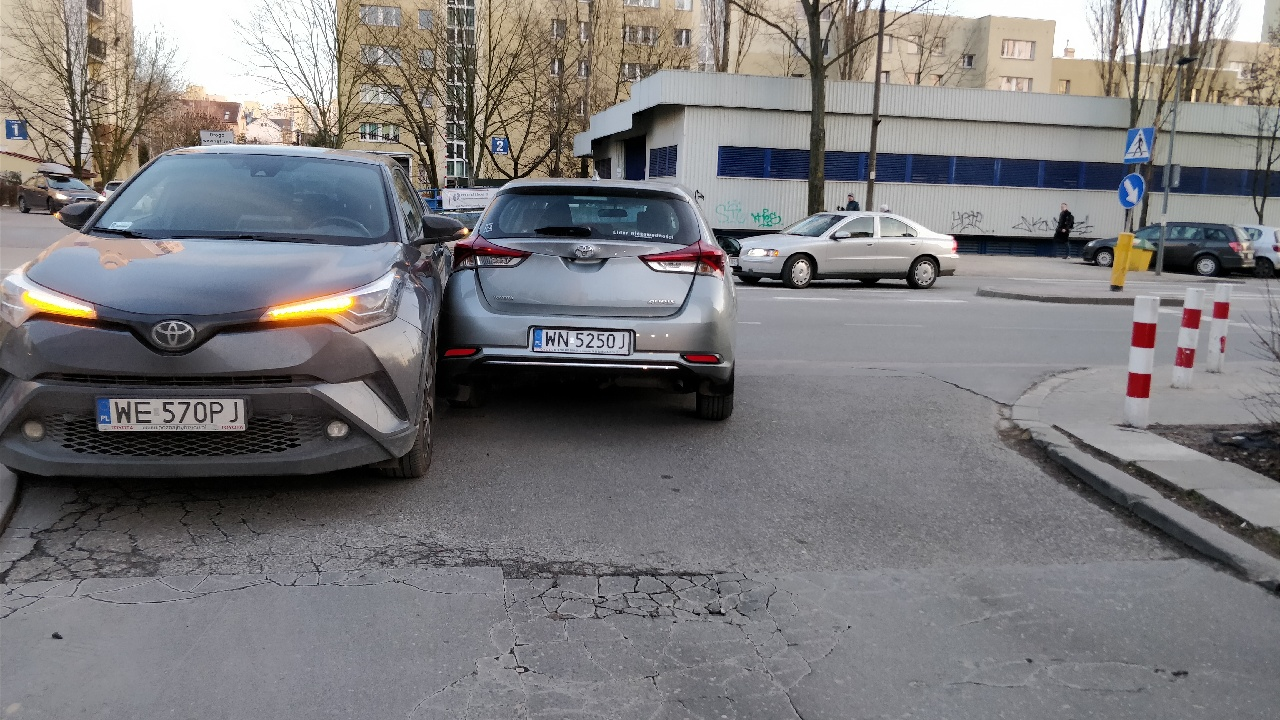C9: (1110, 172, 1150, 214)
D6: (1118, 123, 1161, 162)
